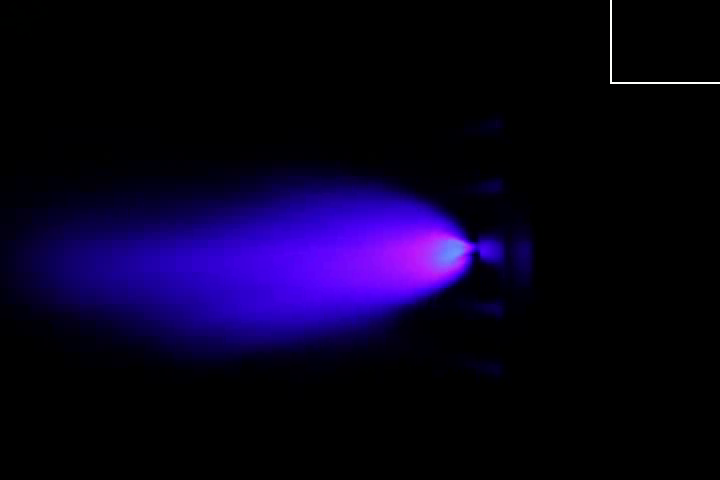burner cap: (477, 229, 507, 271)
stable: (400, 223, 482, 281)
